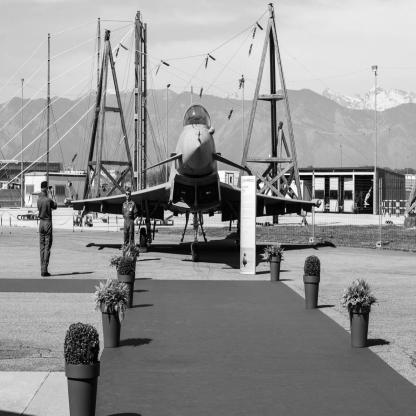EF2000: (64, 86, 323, 263)
